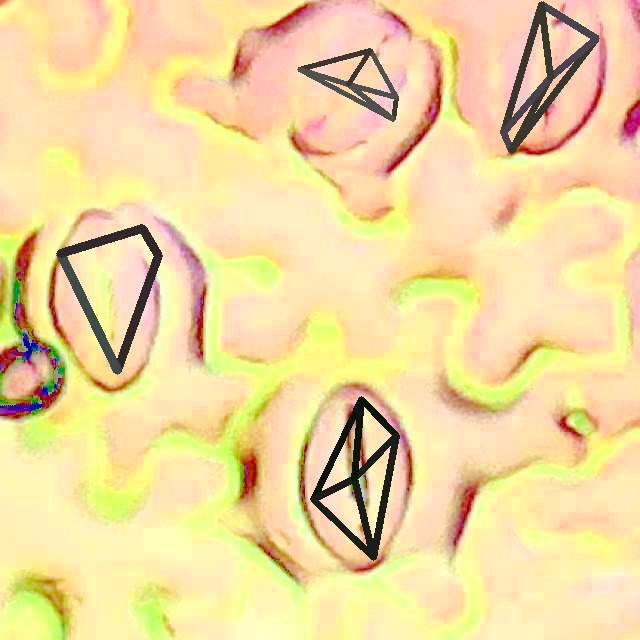close: (56, 224, 162, 374), (297, 48, 398, 121)
open: (500, 1, 599, 153), (310, 396, 399, 560)
